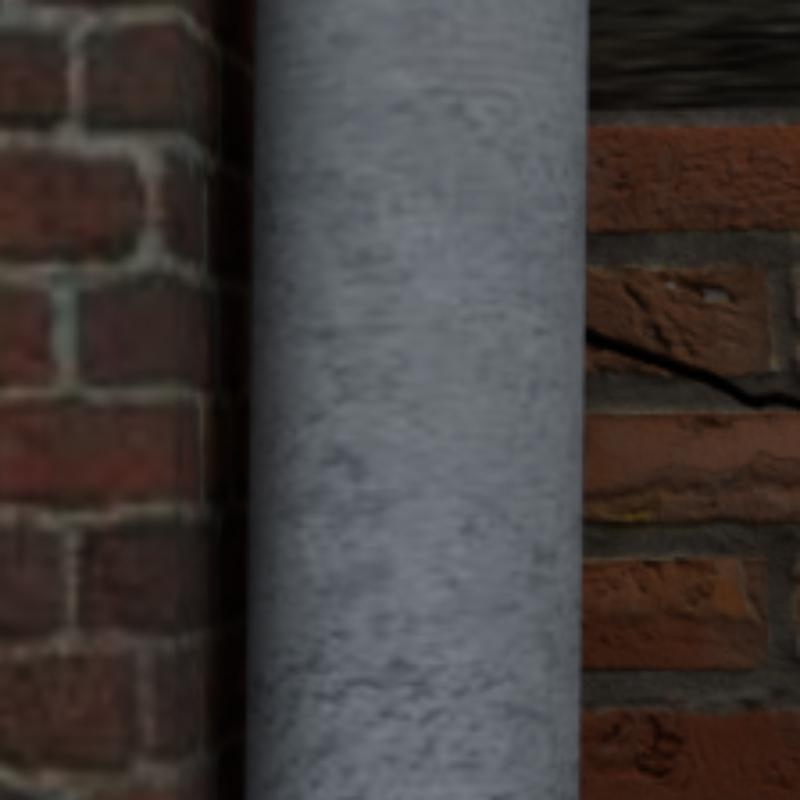crack: (586, 329, 796, 407)
